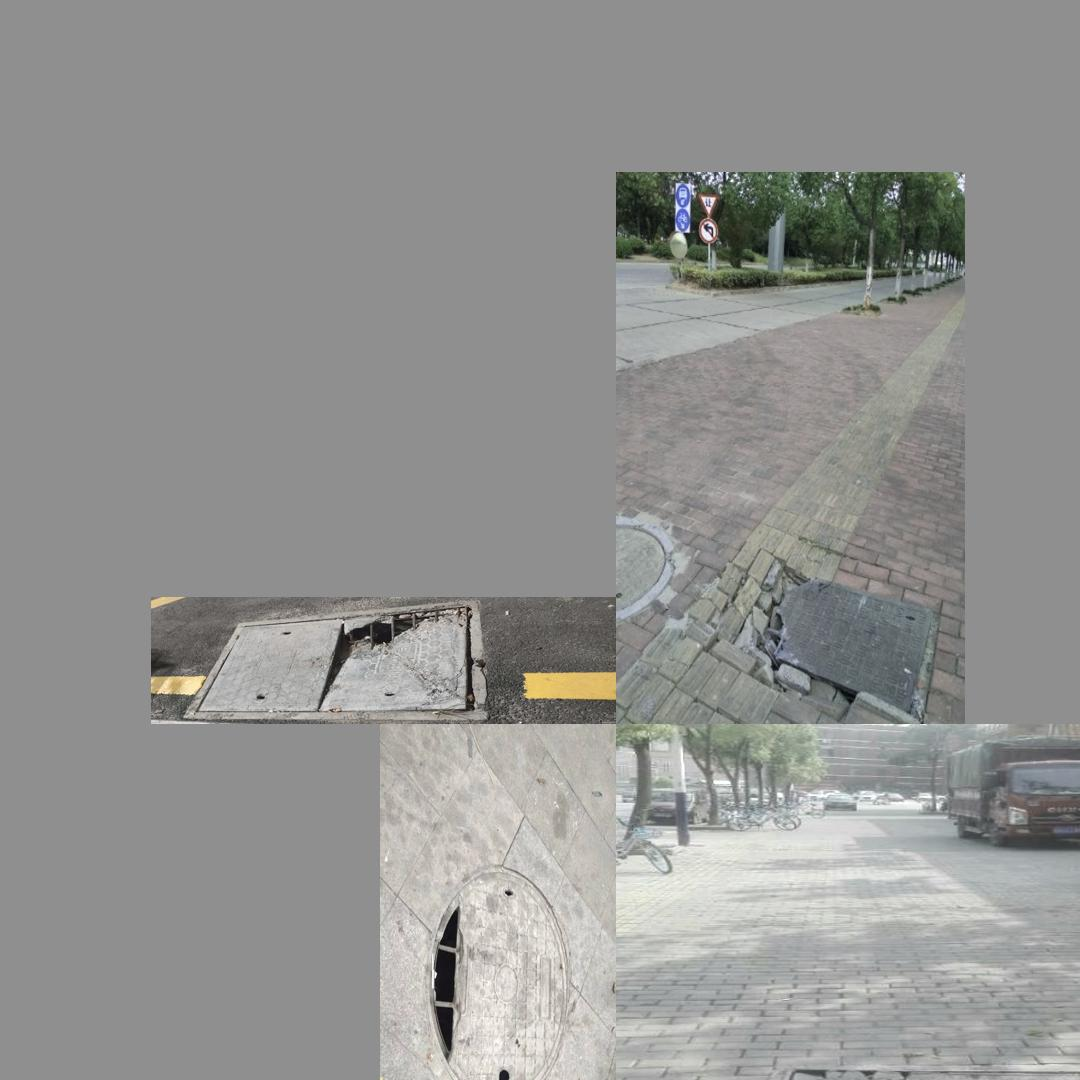broke: (181, 600, 488, 720), (419, 852, 575, 1080), (738, 560, 940, 724), (759, 1066, 1080, 1080)
good: (616, 514, 672, 617)
